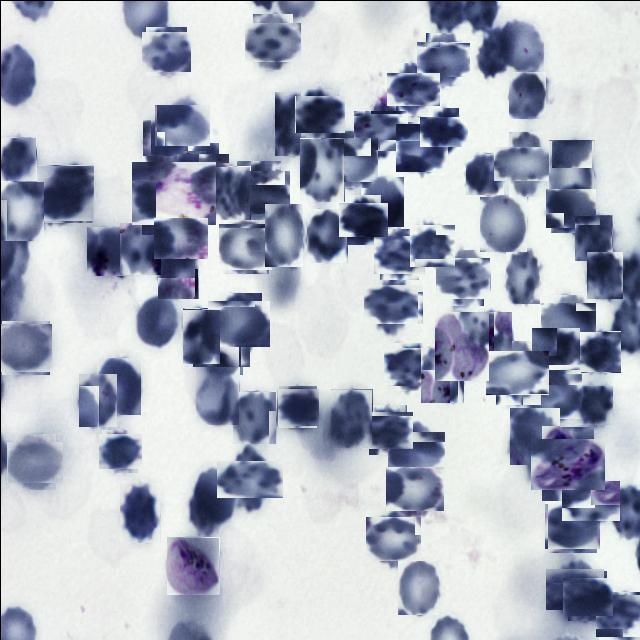red blood cell: (36, 164, 93, 222), (548, 139, 594, 209), (489, 345, 544, 399), (188, 468, 235, 531), (210, 296, 264, 350), (509, 408, 559, 466), (299, 137, 344, 201), (232, 165, 284, 218), (223, 452, 276, 504), (525, 369, 577, 422), (546, 498, 598, 550), (388, 462, 440, 514), (479, 195, 527, 251), (0, 180, 44, 240), (323, 133, 374, 184), (0, 321, 51, 372), (195, 365, 239, 424), (274, 91, 314, 155), (329, 388, 372, 447), (96, 357, 140, 414), (119, 481, 160, 542), (196, 320, 246, 370), (500, 138, 550, 188), (368, 513, 418, 563), (396, 122, 446, 172), (220, 221, 270, 271), (549, 563, 599, 613), (368, 278, 417, 328), (565, 475, 614, 525), (420, 347, 464, 402), (9, 437, 58, 486), (264, 203, 302, 266), (438, 254, 487, 302), (232, 390, 276, 443), (248, 17, 296, 65), (356, 106, 404, 154), (544, 298, 592, 346), (157, 100, 205, 148), (156, 214, 204, 262), (392, 426, 439, 474), (157, 243, 198, 298), (86, 226, 132, 275), (497, 20, 542, 70), (135, 293, 177, 346), (397, 560, 438, 614), (306, 208, 347, 262), (209, 165, 250, 219), (360, 176, 403, 226), (78, 372, 117, 427), (119, 222, 160, 274), (475, 23, 513, 79), (182, 307, 220, 363), (532, 326, 578, 371), (376, 231, 421, 276), (143, 28, 188, 73), (420, 36, 464, 81), (409, 223, 454, 267), (548, 185, 592, 230), (597, 592, 640, 638), (505, 248, 540, 304), (365, 408, 409, 452), (297, 91, 341, 135), (564, 574, 608, 618), (391, 66, 434, 110), (508, 70, 546, 118), (386, 345, 428, 388), (342, 198, 384, 240), (182, 148, 224, 190), (574, 214, 612, 260), (586, 251, 622, 298), (580, 331, 620, 372), (99, 430, 139, 470), (277, 386, 317, 426), (423, 112, 463, 152), (142, 117, 182, 157), (465, 152, 503, 194), (0, 136, 36, 180), (574, 386, 612, 426)
ring: (434, 311, 488, 380)
trophozoite: (136, 155, 210, 229), (536, 432, 598, 494), (166, 536, 219, 594), (470, 310, 512, 366)
